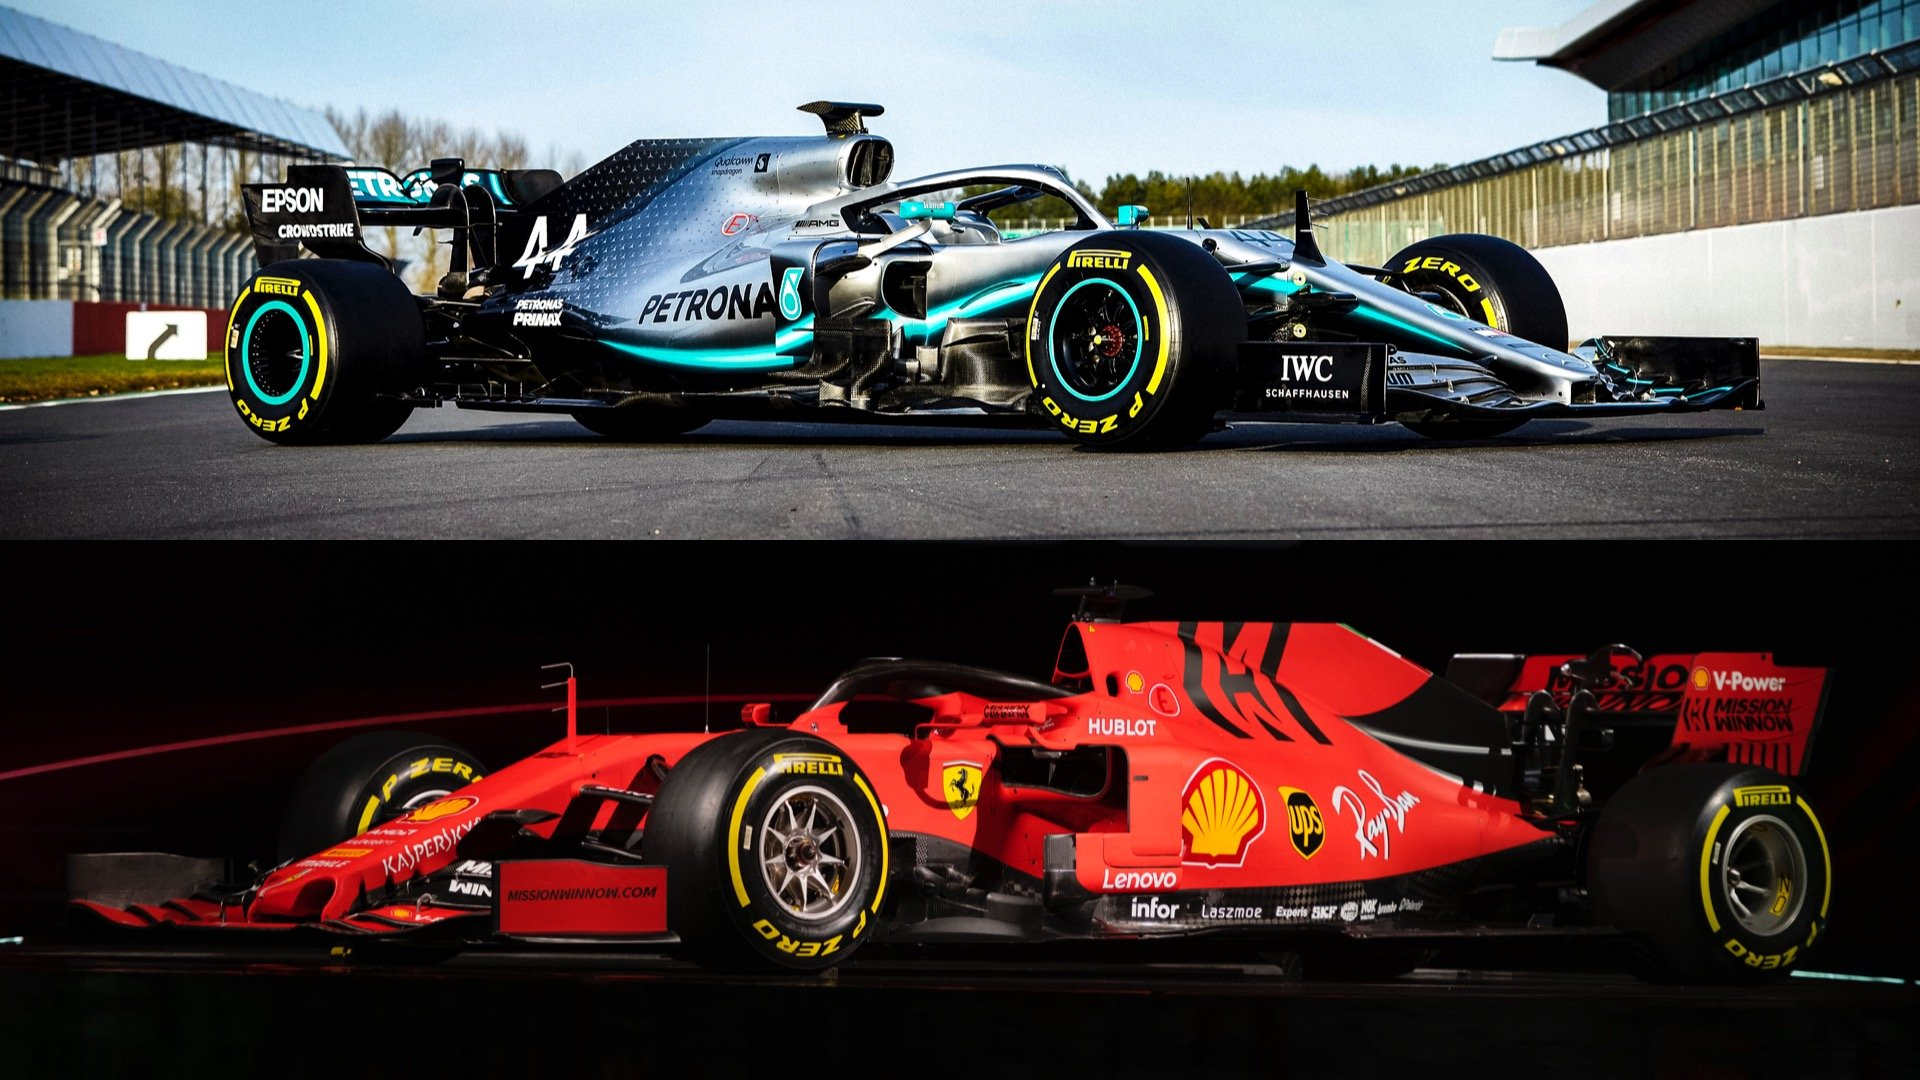f1_car: (54, 574, 1865, 1022), (203, 88, 1795, 468)
